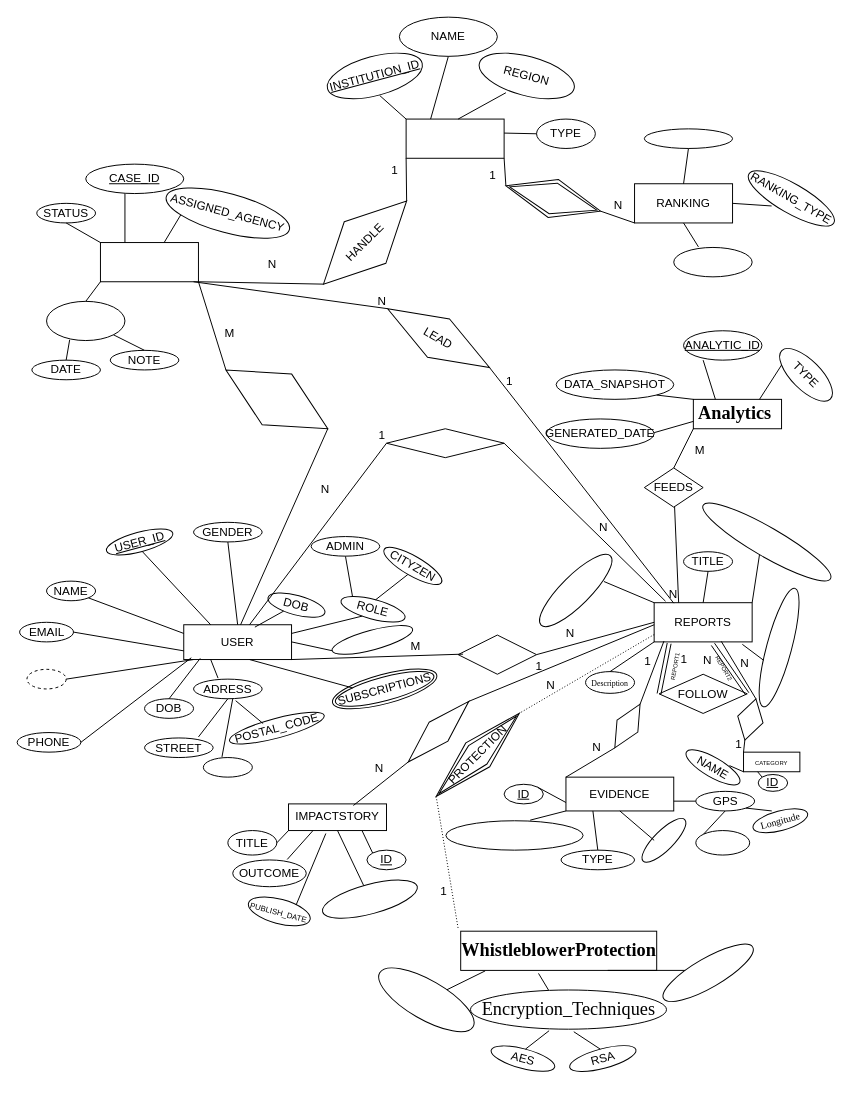
Image size: 858x1095. Some labels were removed from this diagram. The shapes that lost their labels are listed below. From the top down, each one's centre as x and y in pixels, then its label:
the point at 454,138: Institution
the point at 688,138: RANKING_ID
the point at 553,198: EVALUATE
the point at 148,262: CASE
the point at 712,261: SCORE
the point at 85,320: TIMELINE
the point at 276,398: UPDATES
the point at 445,443: SUBMIT
the point at 766,541: Date_Submitted
the point at 575,590: REPORT_ID
the point at 371,639: NATIONAL_ID
the point at 497,654: VERIFIES
the point at 778,647: SUBMISSION_TYPE
the point at 46,678: AGE
the point at 438,731: APPOROVES
the point at 627,725: HAS
the point at 750,719: BELONG
the point at 227,767: CITY
the point at 514,835: WATERMARKED_COPY
the point at 663,839: FILE_LINK
the point at 722,842: Latitude
the point at 369,898: DISCRIPTION
the point at 707,972: PROTECTION_ID
the point at 426,999: PROTECTION_LEVEL
